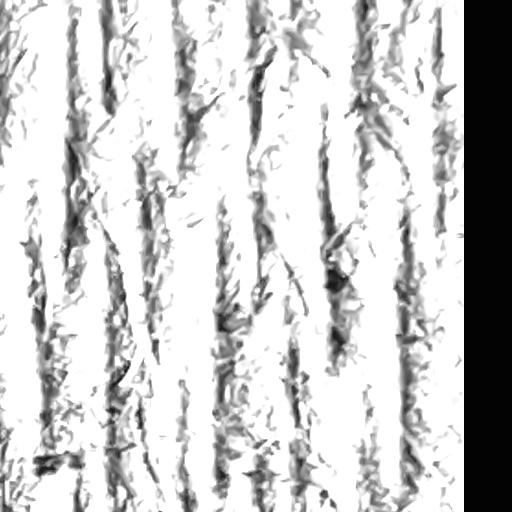egg: (325, 263, 349, 293), (33, 453, 64, 475)
